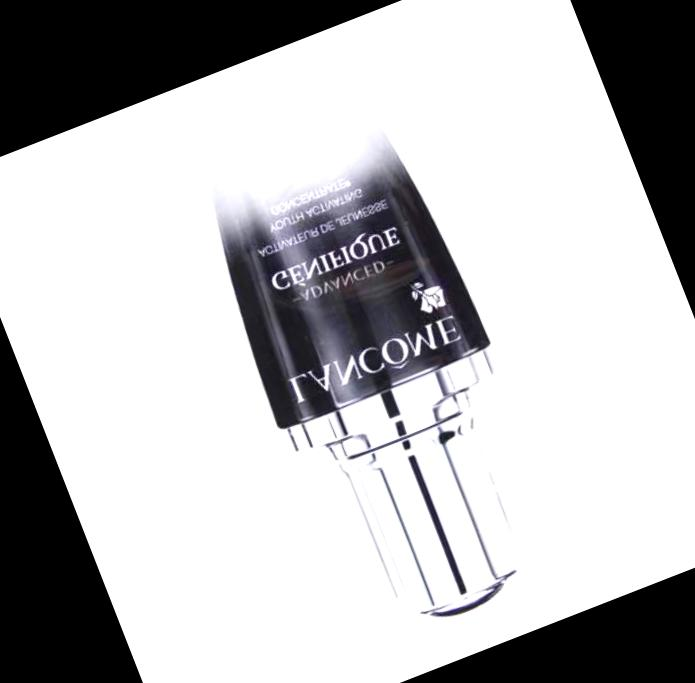cosmetic: (163, 48, 582, 653)
